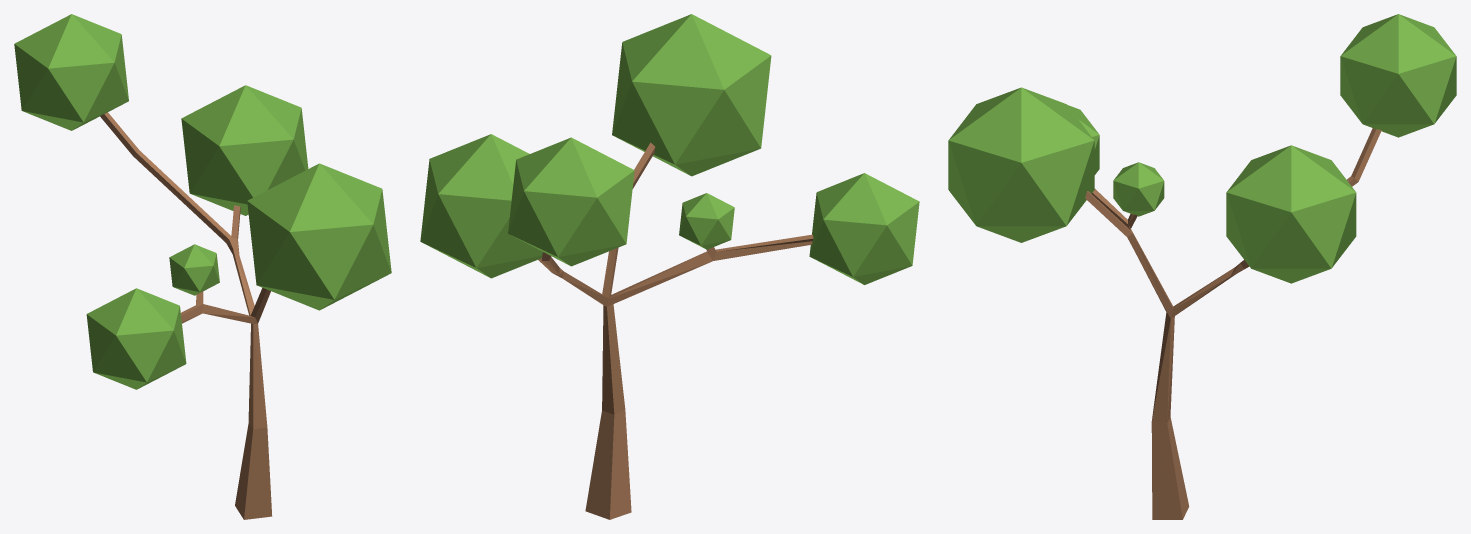
Rendered from tree2.fbx.
The picture shows the model from 3 angles, left to right: view 1: azimuth 30°, elevation 25°; view 2: azimuth 150°, elevation 25°; view 3: azimuth 270°, elevation 25°; orthographic projection. The views are drawn at different scales.
Visible parts, largest first — view 1: tree1; view 2: tree1; view 3: tree1.
Boxes of the visible parts, x1=… form: tree1: x1=14, y1=14, x2=391, y2=519; tree1: x1=420, y1=14, x2=919, y2=519; tree1: x1=948, y1=14, x2=1456, y2=519.
Size of the model in its own units: 759 by 983 by 979.
